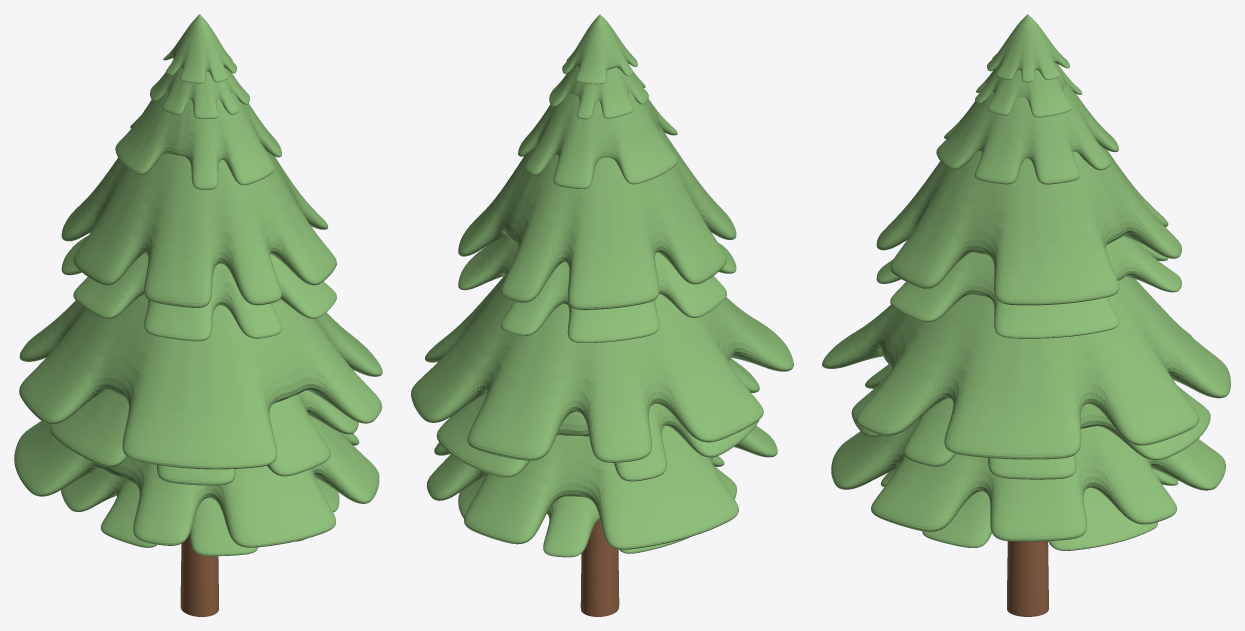
The model's file is sprucesmall.fbx.
3 renders of one model, left to right at view 1: azimuth 30°, elevation 25°; view 2: azimuth 150°, elevation 25°; view 3: azimuth 270°, elevation 25°, orthographic.
Visible parts, largest first — view 1: Spruce; view 2: Spruce; view 3: Spruce.
Part boxes in pixels (x1=…): Spruce: x1=14, y1=14, x2=382, y2=616; Spruce: x1=411, y1=14, x2=793, y2=616; Spruce: x1=822, y1=14, x2=1230, y2=616.
Bounding box in the file's own units: 2548 × 4566 × 2843.
